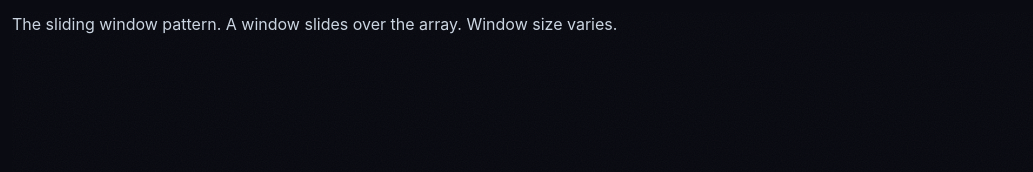
ArticleFind › cycles matches with next/prev and marks the current one
Press /
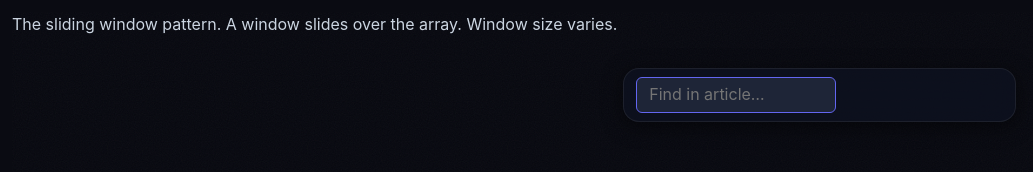
Type "window" into the field labelled "Find in article" at (736, 95), box [636,77,836,113]
Wait 200 ms
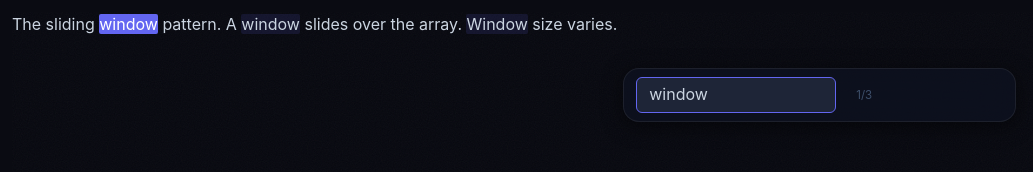
Press Enter in the field named "Find in article", box [636,77,836,113]
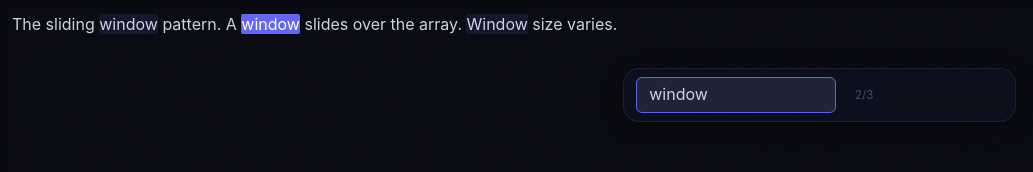
Result: the number of elements with class "article-find-hit--current" is 1 at [241,14,300,34]
Result: the text "2/3" is shown at [855,88,873,102]
